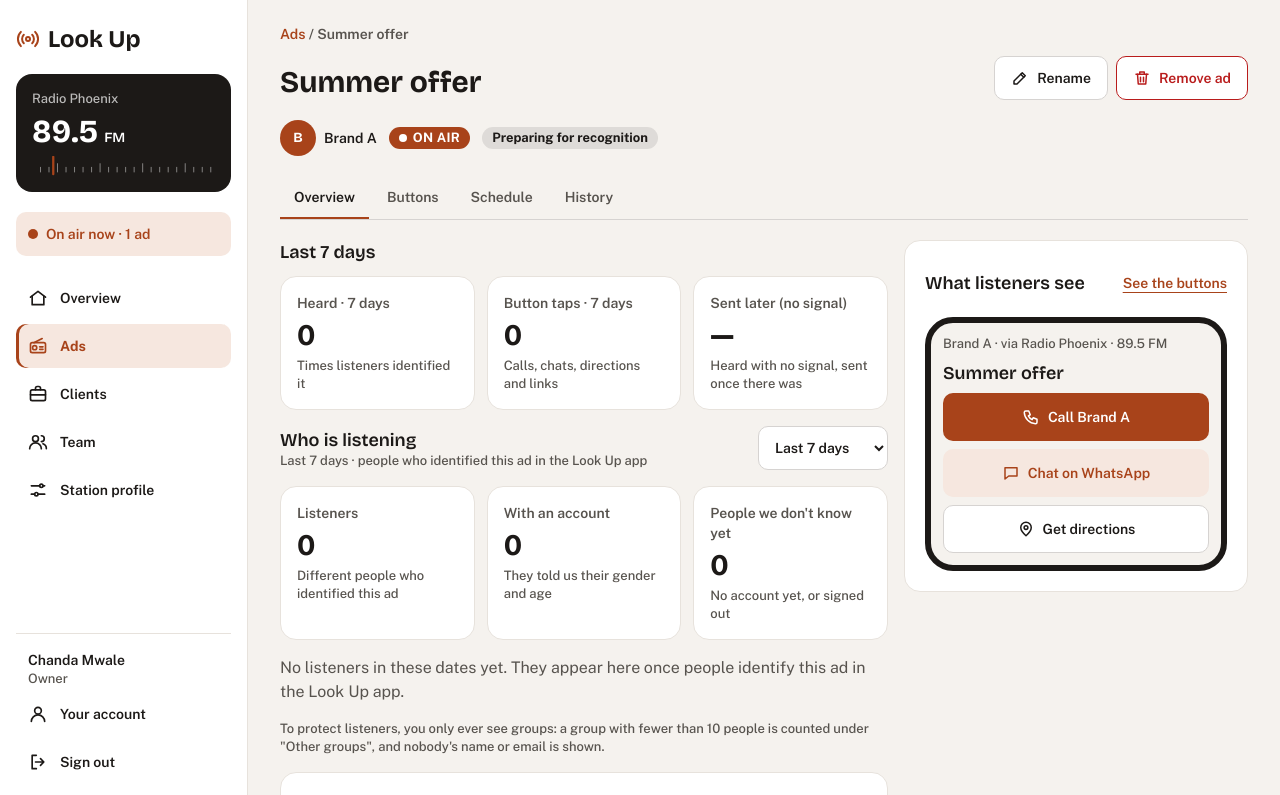
Test: Ad page › renaming › opens a window with the title, saves the new one, confirms, and shows it
The image size is (1280, 795).
Click the button "Rename" at (1051, 78), box left=994, top=56, right=1108, bottom=100
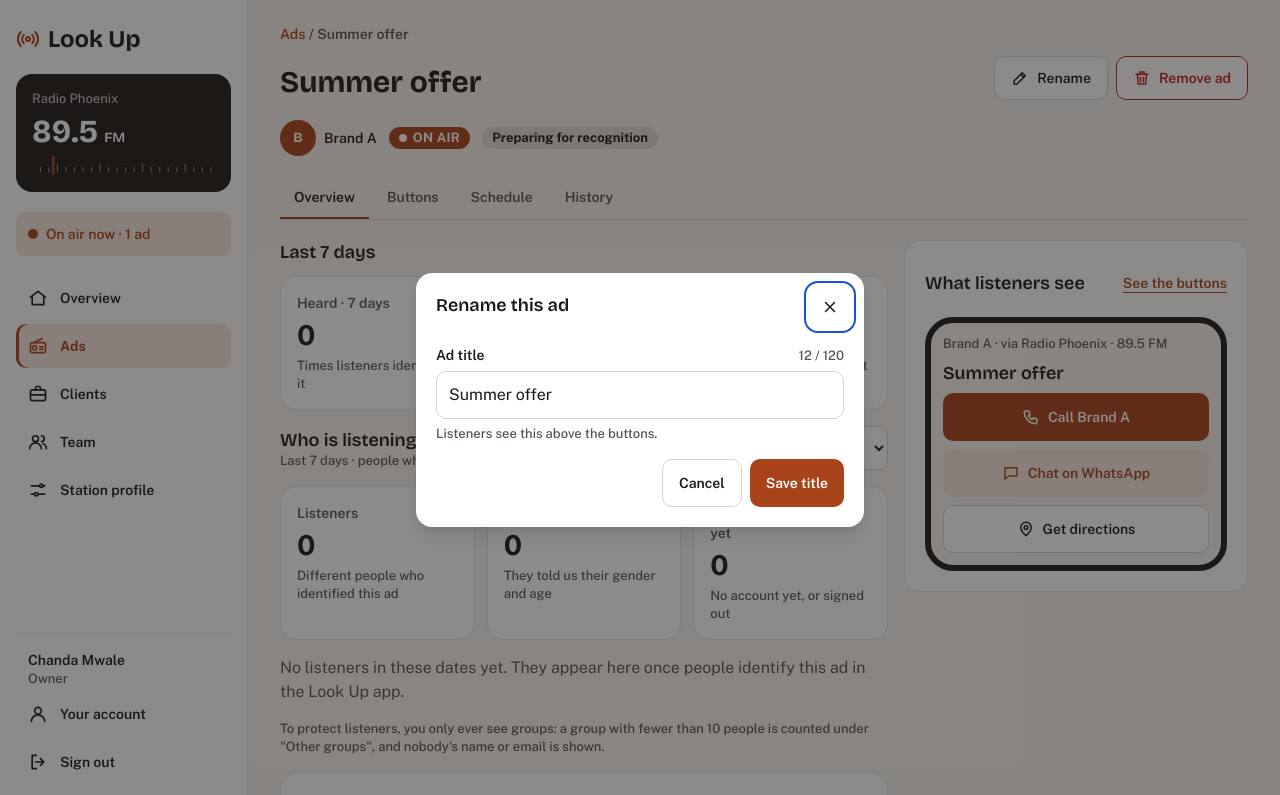
Now the field labelled "Ad title" holds "Summer offer"
Replace the text in the field labelled "Ad title" with "  Summer service offer  " at (640, 395), box left=436, top=371, right=844, bottom=419
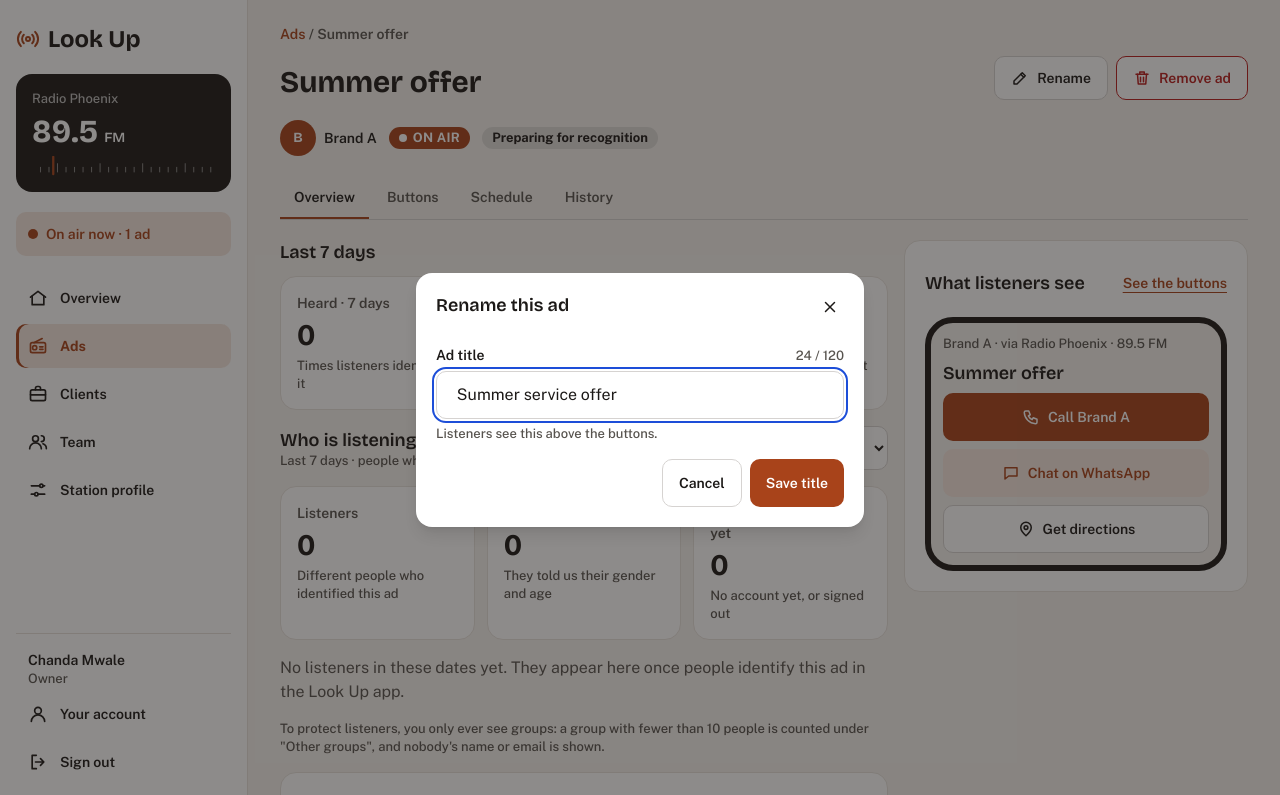
Click the button "Save title" at (797, 483), box left=750, top=459, right=844, bottom=507
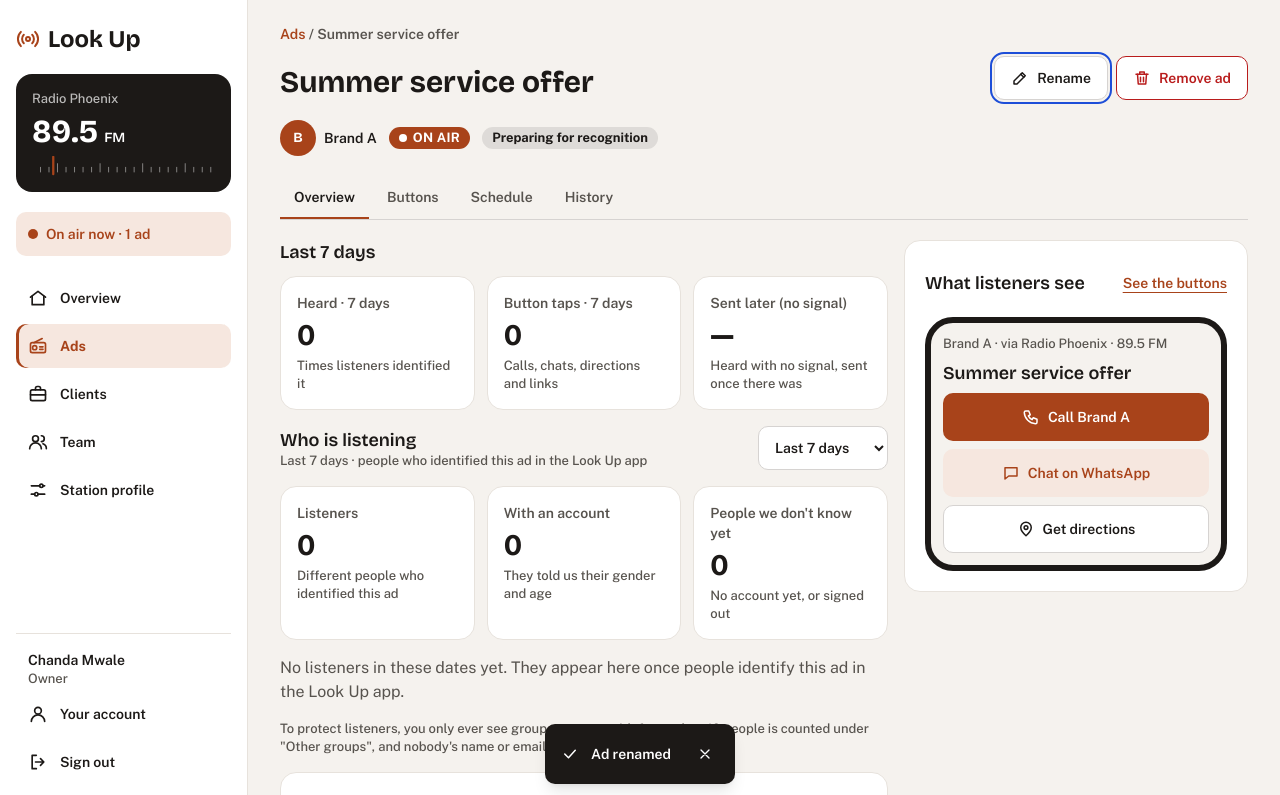
Now the heading "Summer service offer" is shown, box left=280, top=64, right=594, bottom=100
Now the dialog is gone
Now the text "Ad renamed" is shown, box left=591, top=744, right=671, bottom=764
